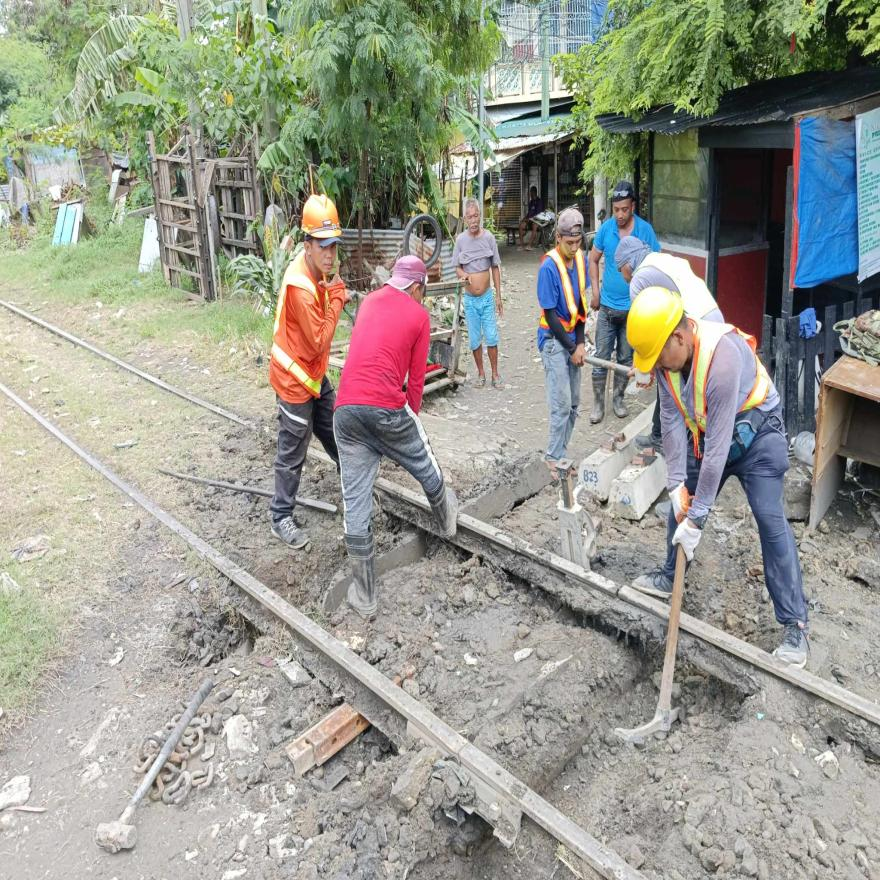railway-gap: (432, 702, 499, 794), (585, 552, 650, 633)
